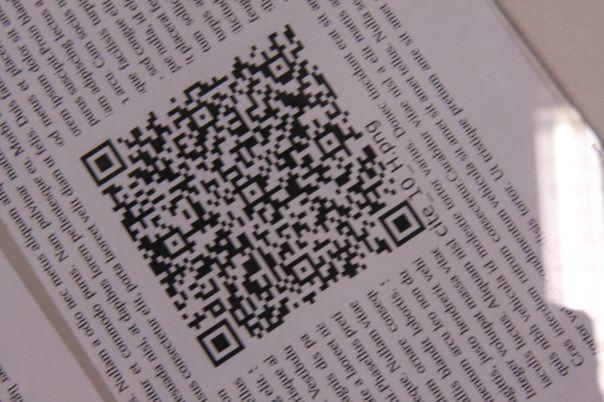Finder pattern: (78, 139, 129, 189), (376, 199, 428, 247), (195, 320, 244, 365)
